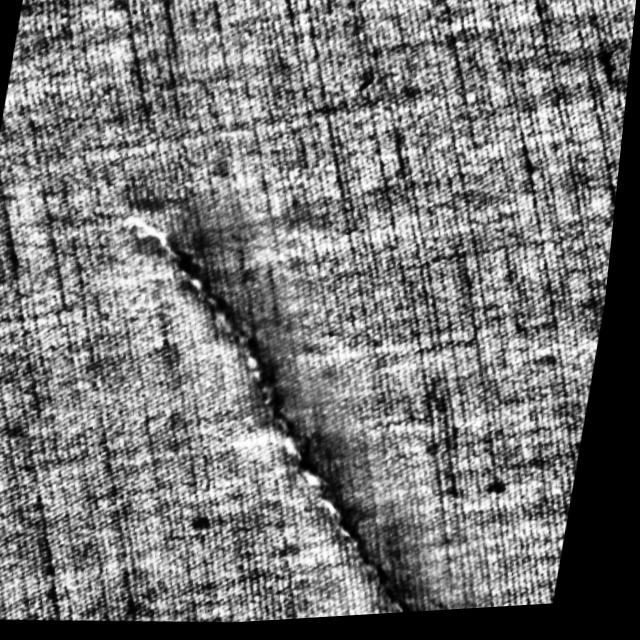Stitch: (71, 194, 528, 634)
